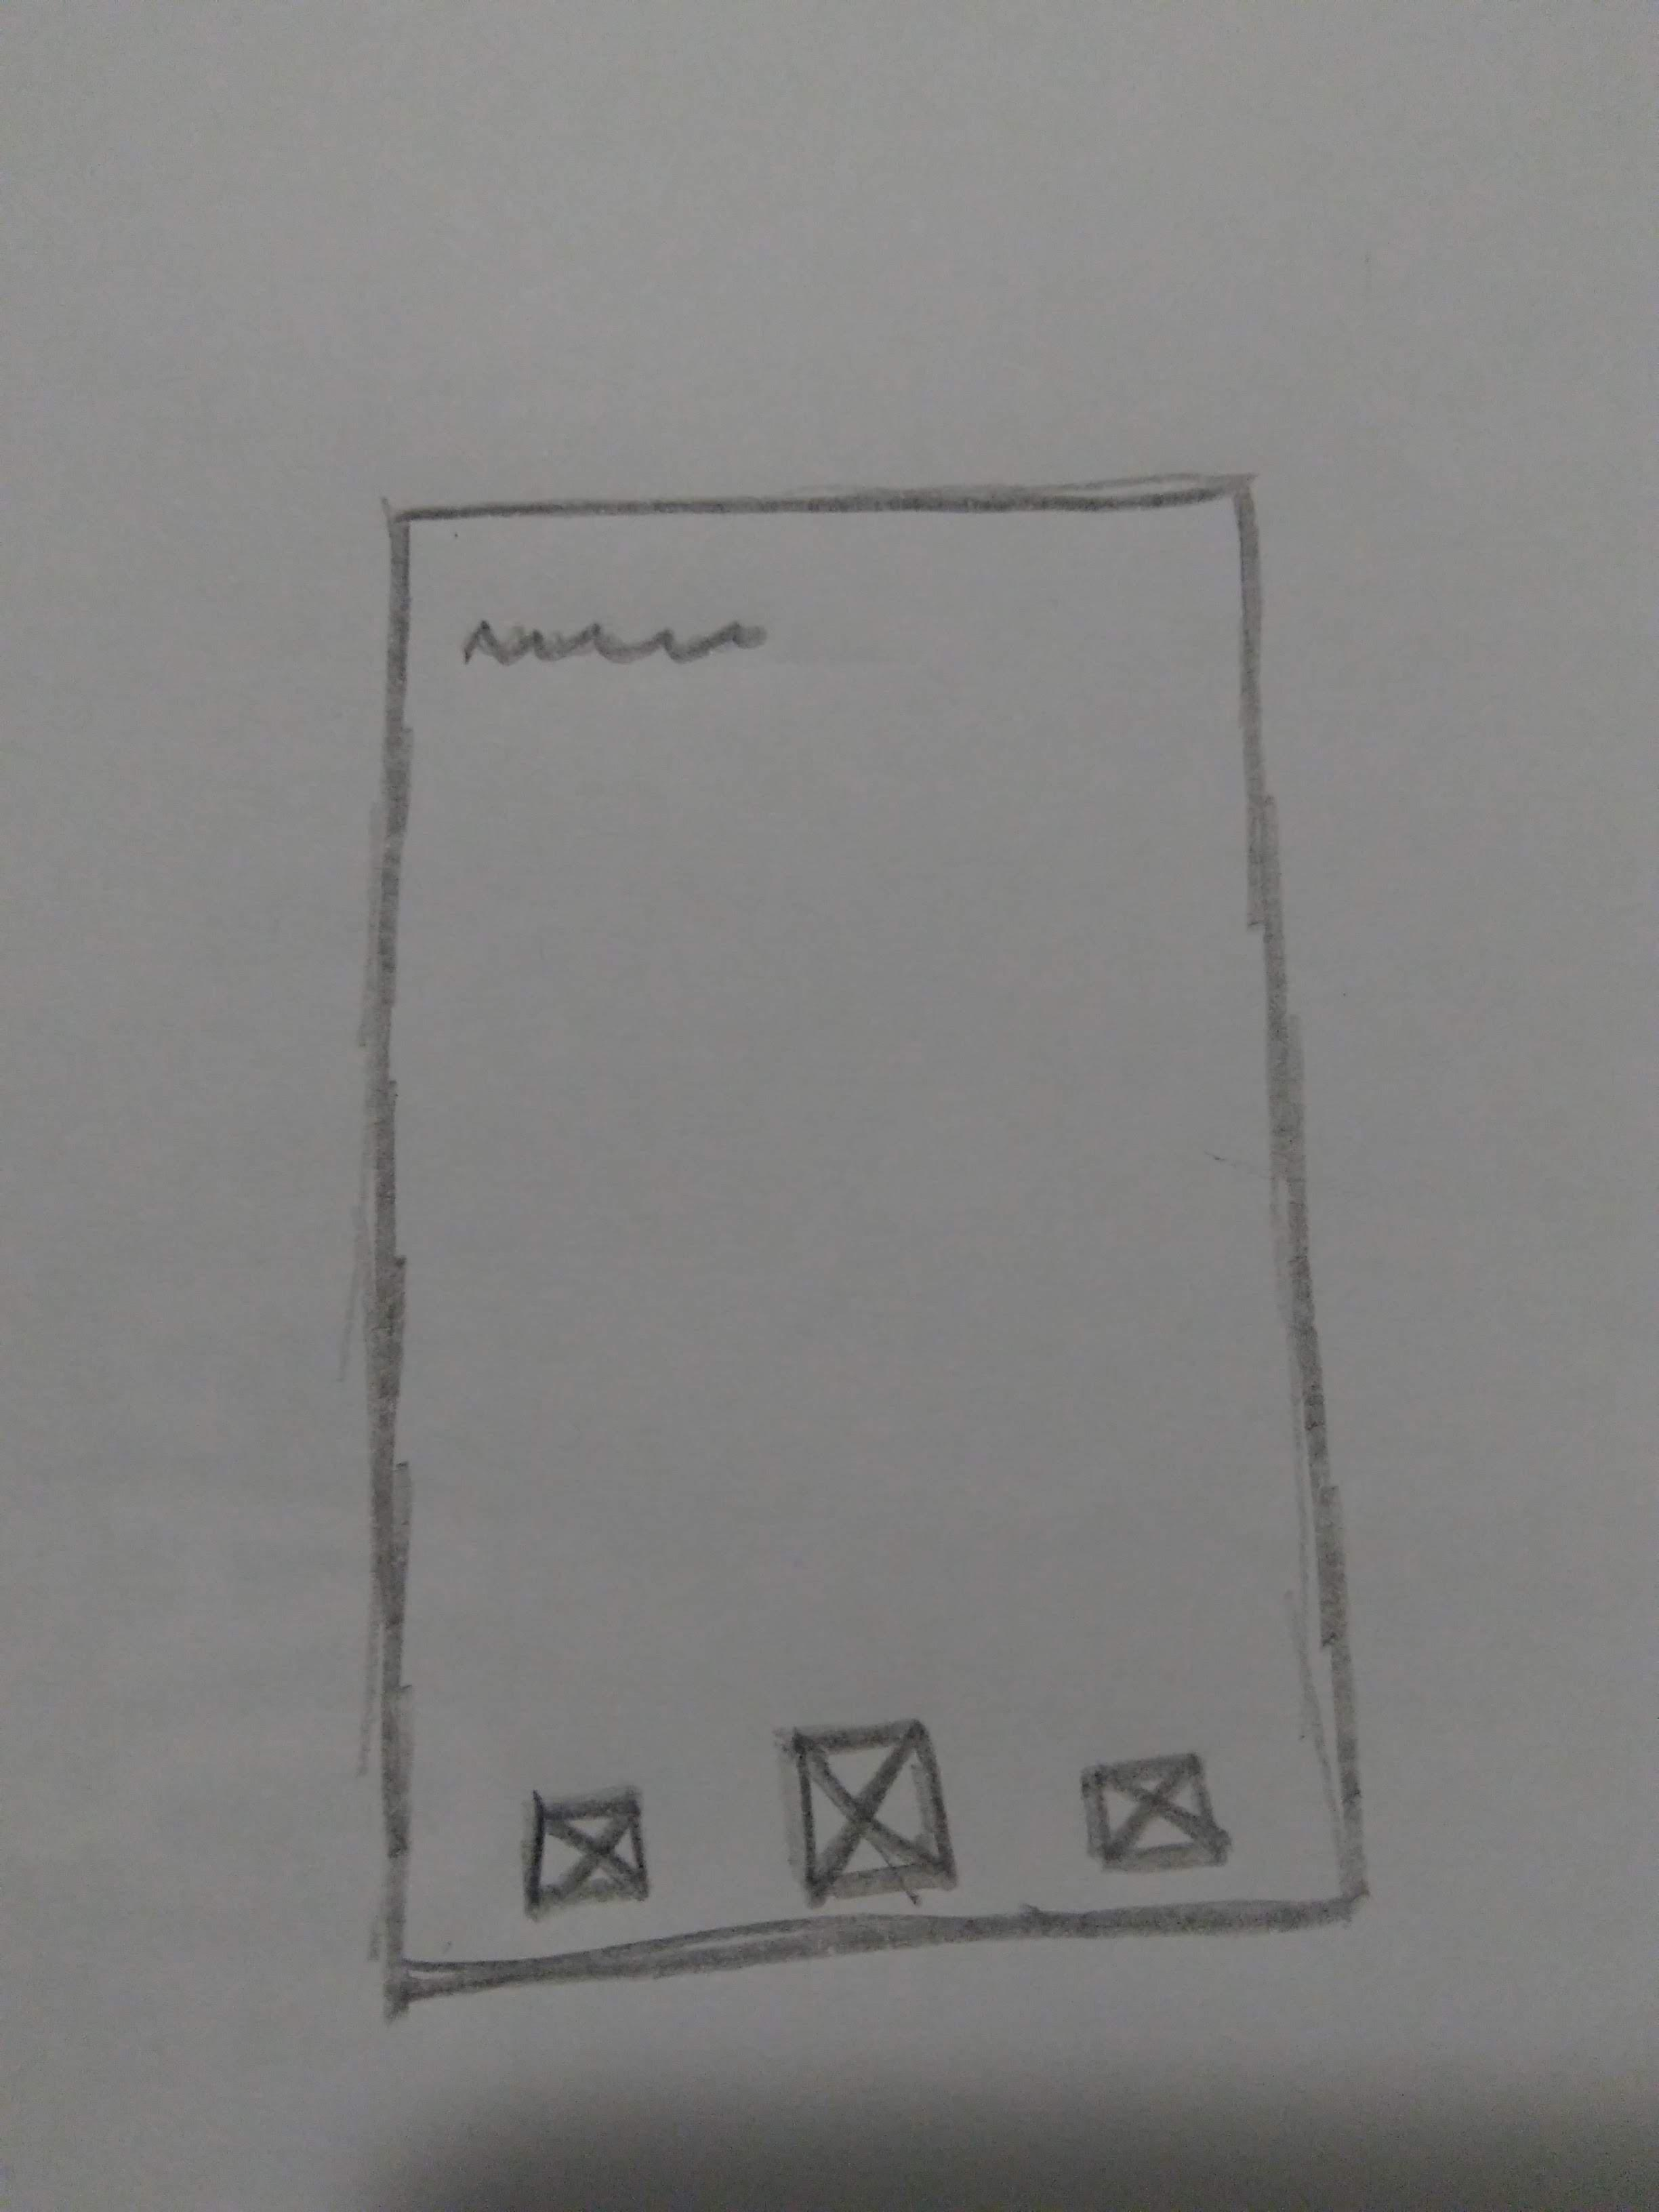Image: (791, 1721, 960, 1900), (1084, 1752, 1227, 1872), (526, 1796, 648, 1907)
Label: (457, 613, 772, 665)
Screen: (359, 479, 1364, 1998)
